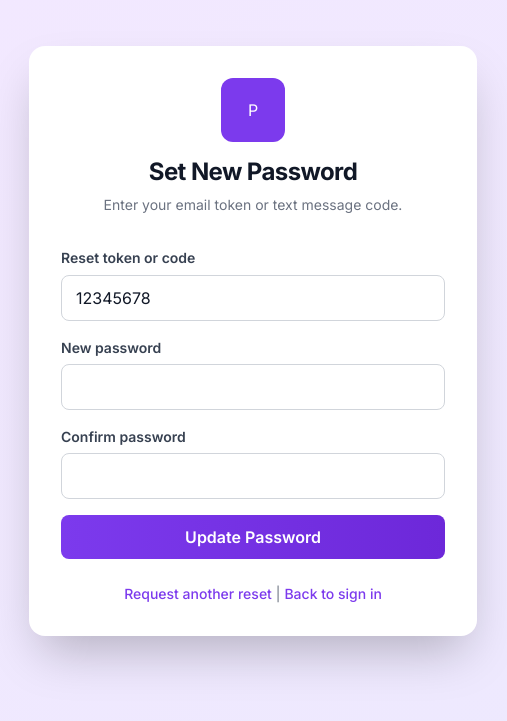
Test: Patient portal pages › submits a patient portal password reset code
Type "Portal123!" into the password field labelled "New password" at (253, 387), box [61, 364, 445, 410]
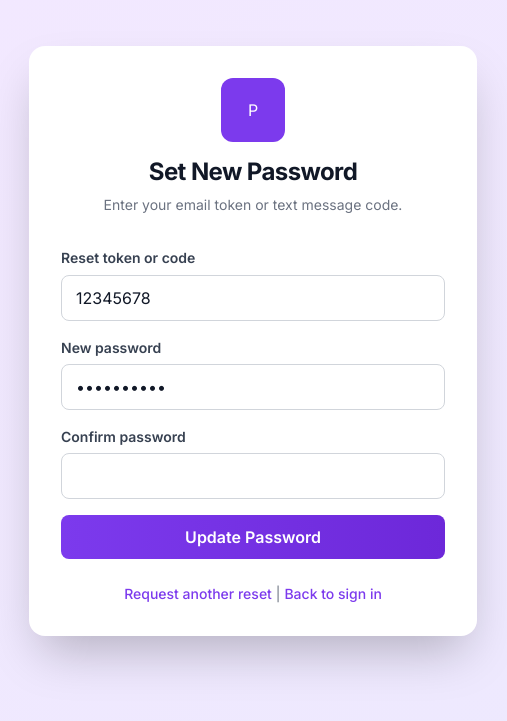
Type "Portal123!" into the password field labelled "Confirm password" at (253, 476), box [61, 454, 445, 500]
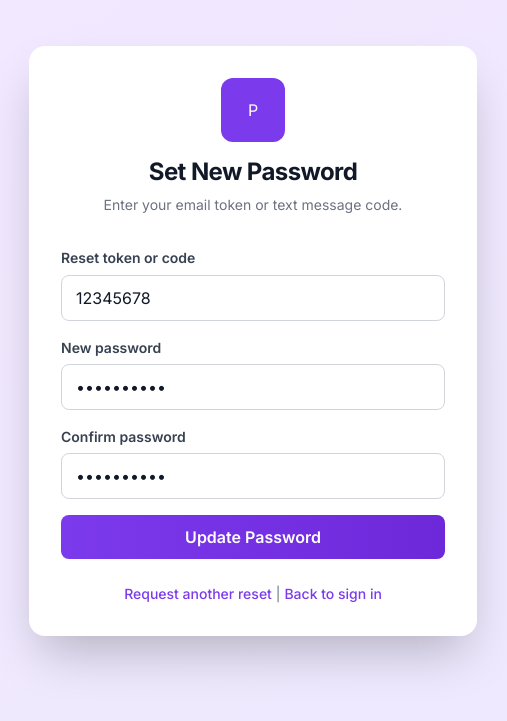
Click the button "Update Password" at (253, 538), box [61, 516, 445, 560]
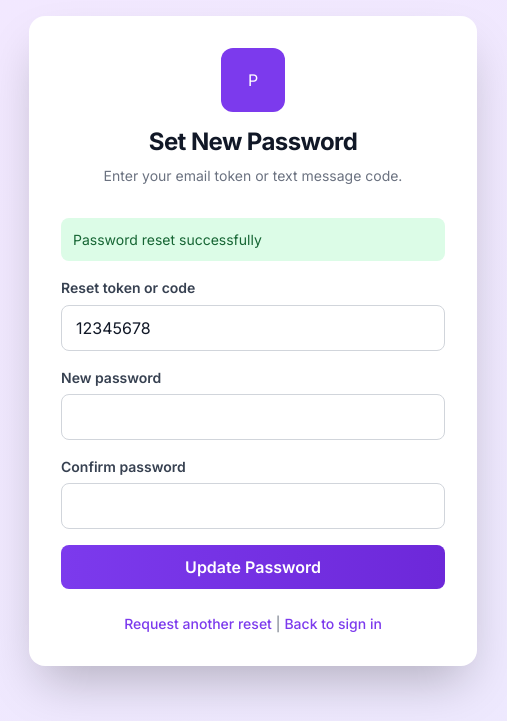
Expected: the text "Password reset successfully" is shown, [61, 218, 445, 261]
